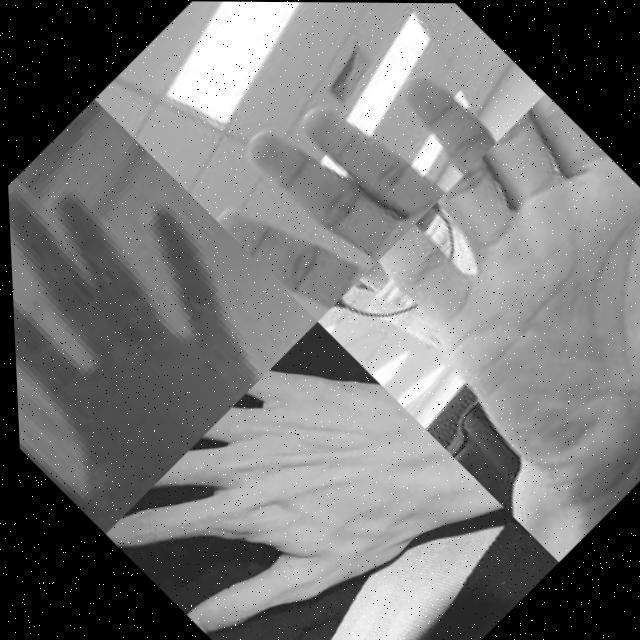no-gloves: (341, 90, 640, 517), (4, 115, 304, 535), (91, 319, 483, 640), (184, 8, 509, 322)
